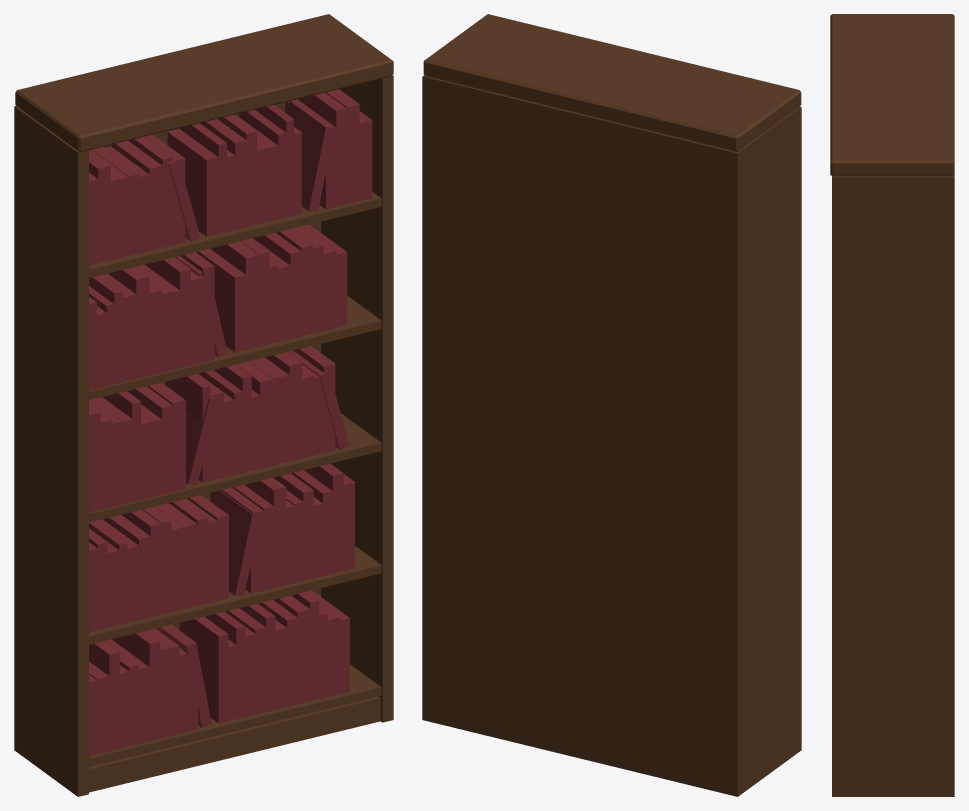
File: bookshelf.glb
3 renders of one model, left to right at view 1: azimuth 30°, elevation 25°; view 2: azimuth 150°, elevation 25°; view 3: azimuth 270°, elevation 25°, orthographic. The views are drawn at different scales.
Parts seen in each view (by area): view 1: books, bookshelf; view 2: bookshelf; view 3: bookshelf.
Boxes of the visible parts, x1,y1,x2,y2 form: books: (89,89,372,755); bookshelf: (14,14,393,796); bookshelf: (422,14,801,796); bookshelf: (830,14,954,796).
Size of the model in its own units: 1 by 2 by 0.355.
